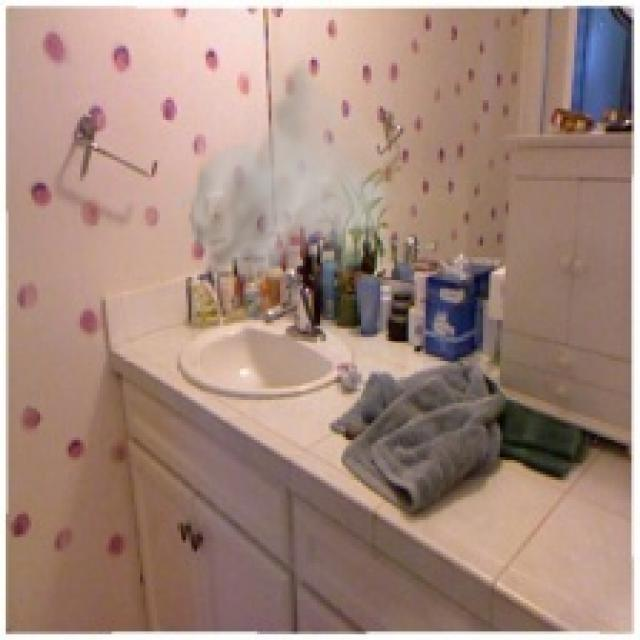Smoke: (168, 51, 400, 306)
